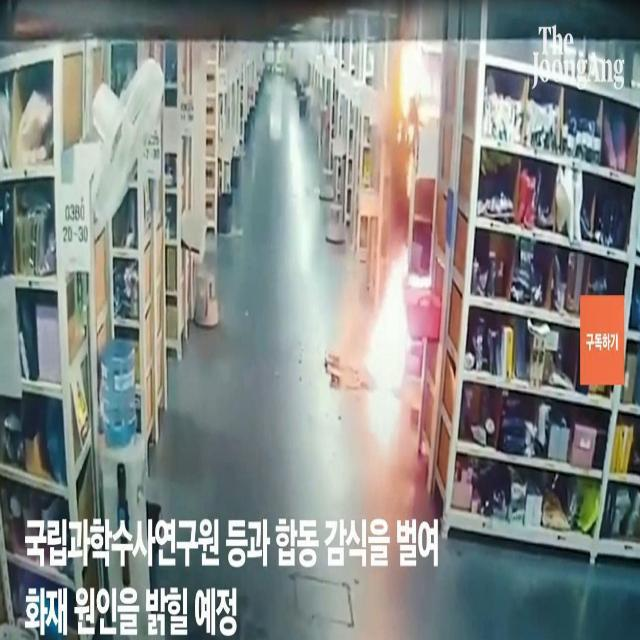Fire: (362, 256, 408, 391), (400, 11, 420, 118)
